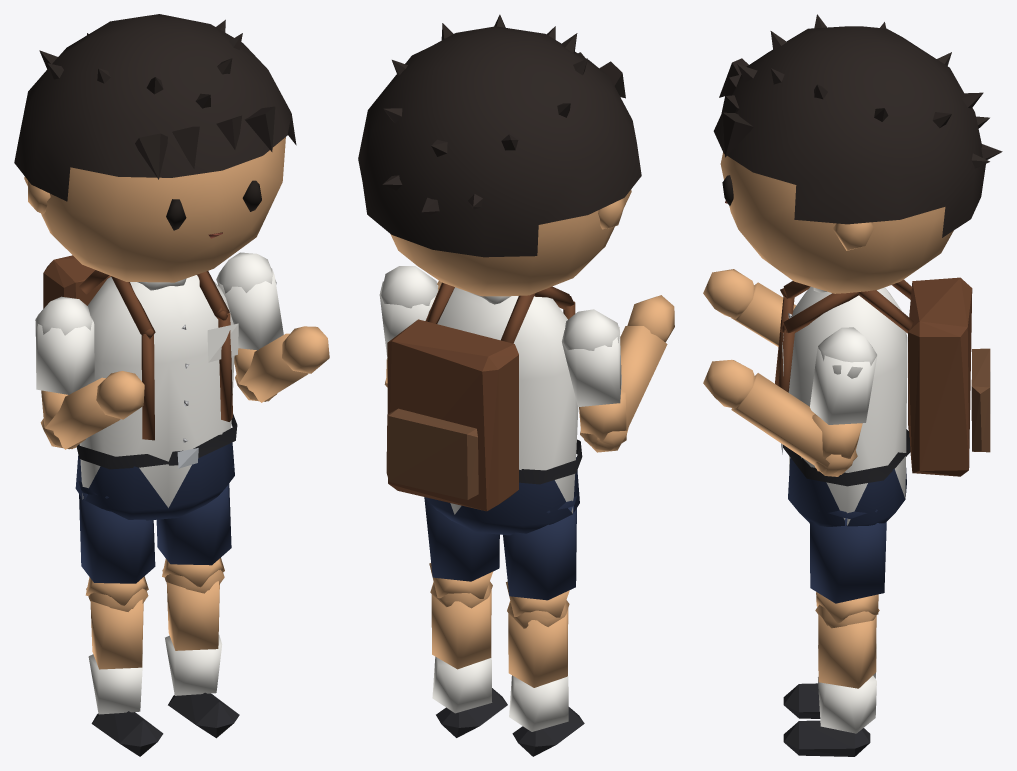
Rendered from schoolboy.glb.
3 views of the same model, side by side, from view 1: azimuth 30°, elevation 25°; view 2: azimuth 150°, elevation 25°; view 3: azimuth 270°, elevation 25° (orthographic).
Visible parts, largest first — view 1: head, body, shin_L, shin_R, leg_R, arm_R, leg_L, arm_L, forearm_R, forearm_L; view 2: head, body, shin_R, shin_L, arm_R, leg_R, leg_L, forearm_R, arm_L; view 3: head, body, shin_L, leg_L, arm_L, forearm_L, forearm_R, shin_R.
Part boxes in pixels (x1=…): head: x1=14, y1=14, x2=296, y2=282; body: x1=43, y1=255, x2=238, y2=520; shin_L: x1=163, y1=569, x2=239, y2=738; shin_R: x1=86, y1=587, x2=163, y2=756; leg_R: x1=78, y1=480, x2=155, y2=611; arm_R: x1=35, y1=296, x2=94, y2=449; leg_L: x1=156, y1=465, x2=233, y2=593; arm_L: x1=216, y1=252, x2=283, y2=401; forearm_R: x1=44, y1=371, x2=144, y2=449; forearm_L: x1=238, y1=326, x2=329, y2=402; head: x1=358, y1=14, x2=641, y2=296; body: x1=386, y1=282, x2=582, y2=535; shin_R: x1=508, y1=604, x2=584, y2=756; shin_L: x1=431, y1=586, x2=507, y2=737; arm_R: x1=562, y1=309, x2=628, y2=452; leg_R: x1=503, y1=495, x2=577, y2=626; leg_L: x1=424, y1=497, x2=499, y2=608; forearm_R: x1=584, y1=295, x2=674, y2=450; arm_L: x1=379, y1=266, x2=438, y2=387; head: x1=713, y1=14, x2=1002, y2=293; body: x1=775, y1=277, x2=990, y2=526; shin_L: x1=783, y1=611, x2=878, y2=756; leg_L: x1=809, y1=509, x2=886, y2=628; arm_L: x1=810, y1=327, x2=877, y2=476; forearm_L: x1=703, y1=359, x2=853, y2=474; forearm_R: x1=703, y1=269, x2=796, y2=346; shin_R: x1=783, y1=643, x2=876, y2=718.
Size of the model in its own units: 0.4881 by 1.32 by 0.5121.
